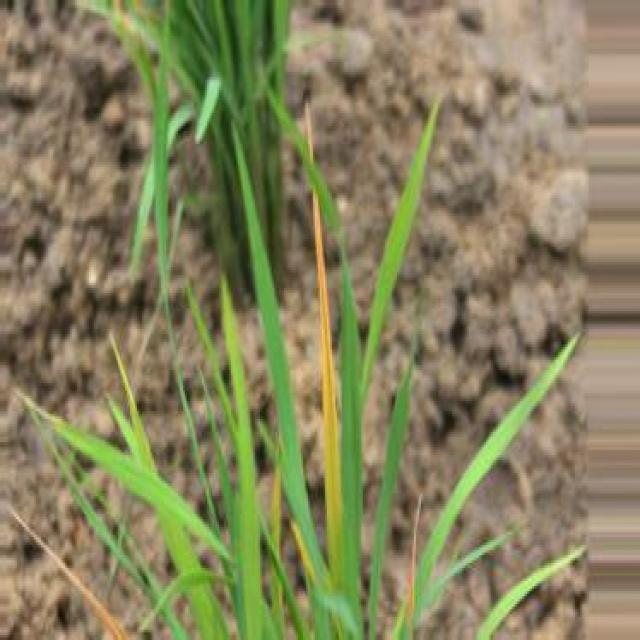Rice Tungro: (314, 192, 340, 587)
